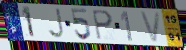1: (21, 6, 36, 40), (120, 11, 134, 43)
5: (70, 7, 93, 42)
J: (47, 8, 65, 40)
P: (91, 9, 115, 41)
V: (138, 10, 163, 44)
